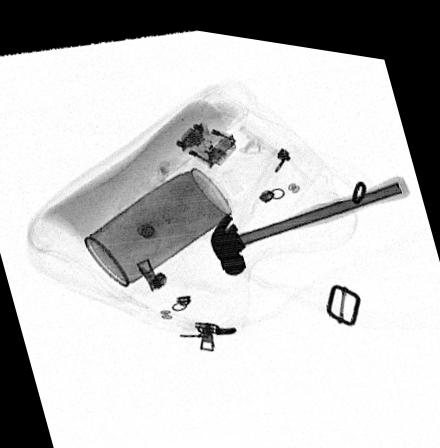Hammer: (209, 161, 409, 267)
